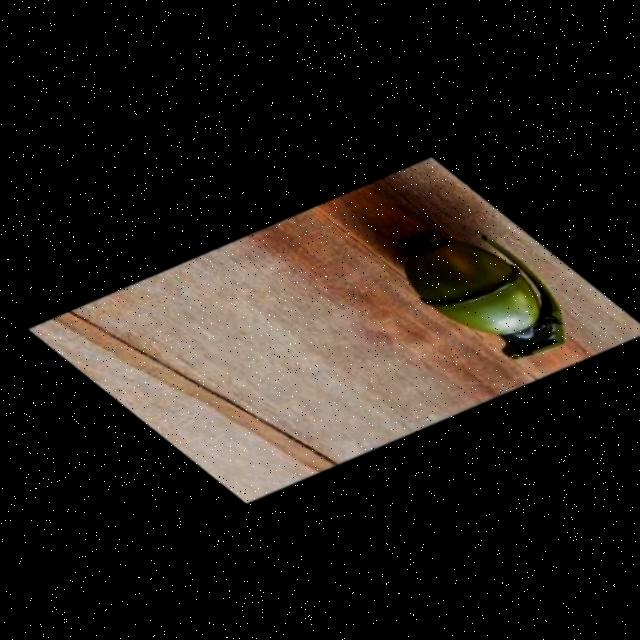grenade: (357, 194, 593, 391)
